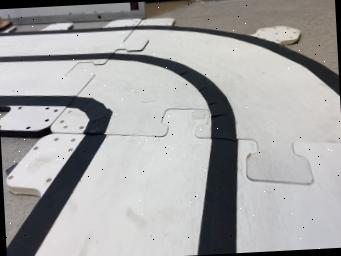street: (0, 25, 341, 256), (0, 25, 341, 256), (0, 25, 341, 256)
